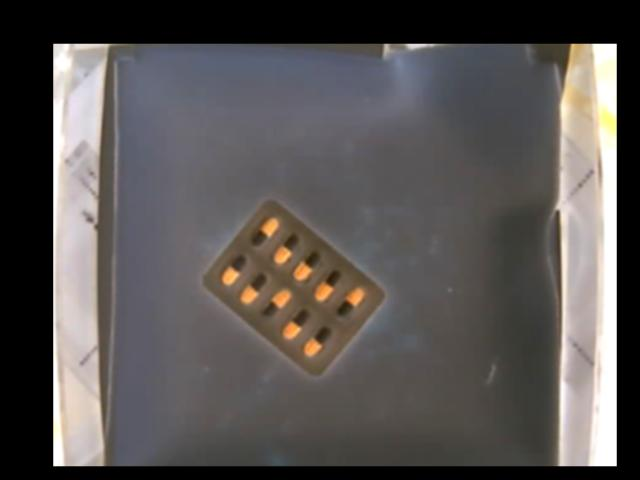Medicine: (198, 200, 386, 380)
